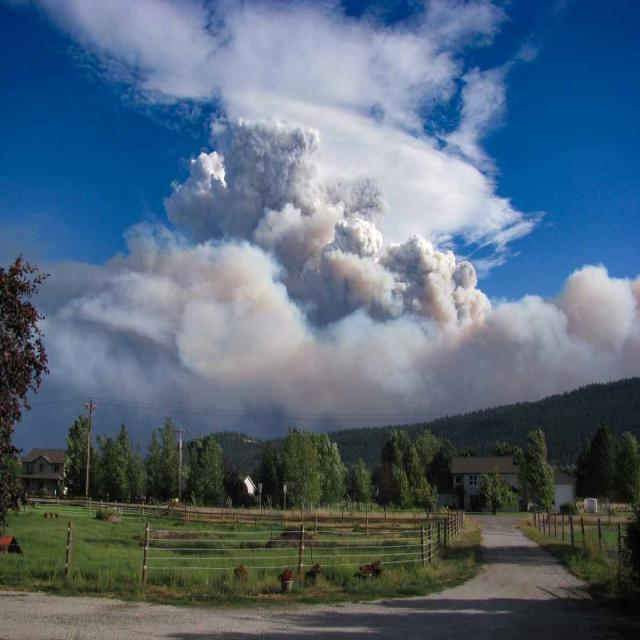Smoke: (3, 240, 640, 420), (180, 100, 458, 326)
